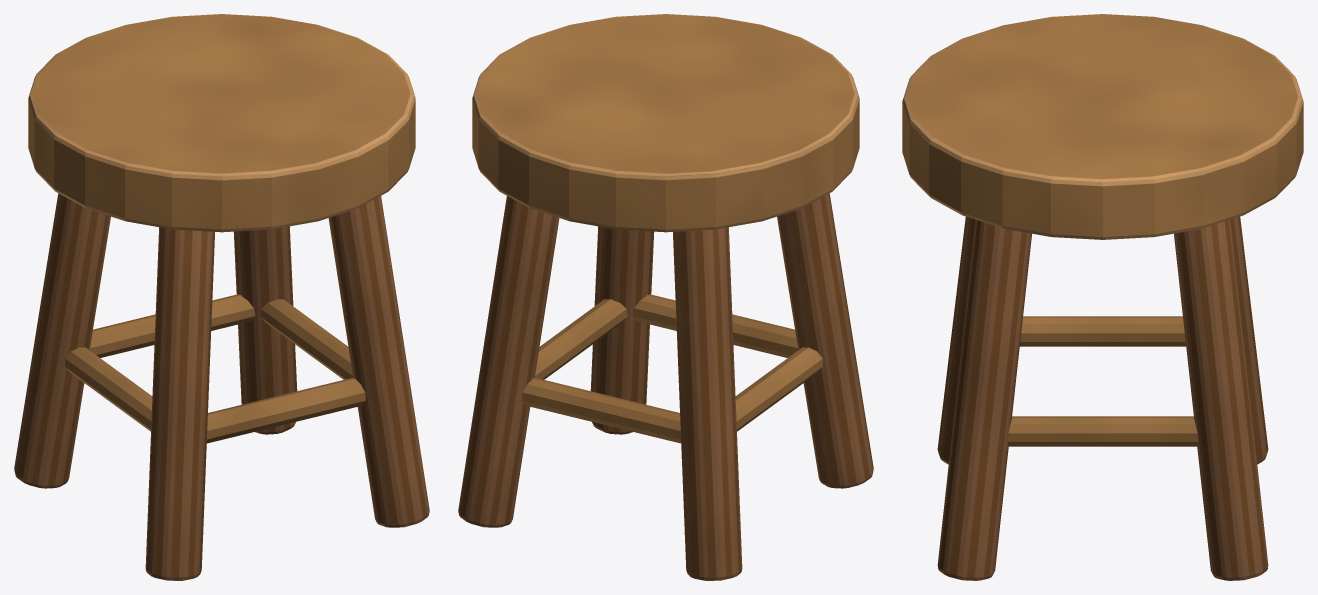
File: 12_Practice_Stool.fbx
3 views of the same model, side by side, from view 1: azimuth 30°, elevation 25°; view 2: azimuth 150°, elevation 25°; view 3: azimuth 270°, elevation 25° (orthographic). The views are drawn at different scales.
Parts seen in each view (by area): view 1: 12_Practice_Stool; view 2: 12_Practice_Stool; view 3: 12_Practice_Stool.
Part boxes in pixels (<box>): 12_Practice_Stool: <box>14,14,429,580</box>; 12_Practice_Stool: <box>458,14,873,580</box>; 12_Practice_Stool: <box>902,14,1303,580</box>.
Size of the model in its own units: 60 by 69.53 by 60.
Materials: 1 (1 with a texture image).
